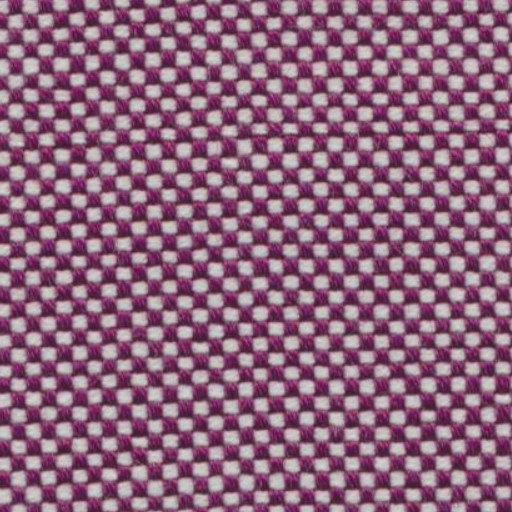TuoSha: (18, 95, 494, 166)
